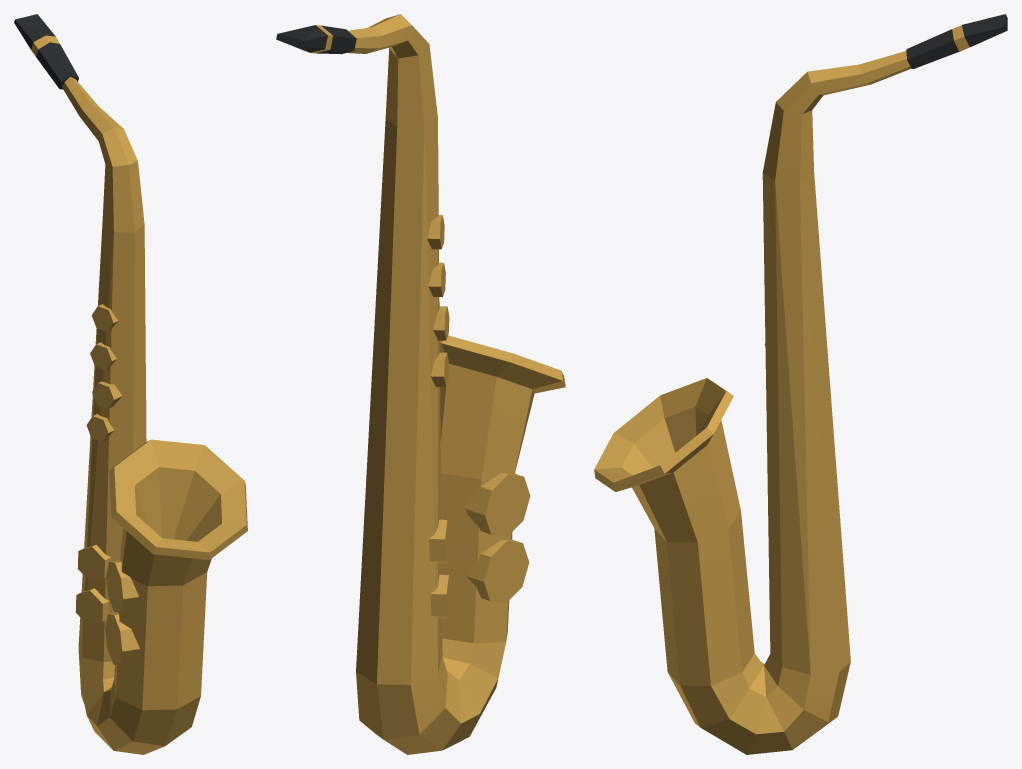
The model's file is SM_Prop_Music_Saxophone_01.obj.
3 renders of one model, left to right at view 1: azimuth 30°, elevation 25°; view 2: azimuth 150°, elevation 25°; view 3: azimuth 270°, elevation 25°, orthographic. The views are drawn at different scales.
Parts seen in each view (by area): view 1: SM_Prop_Music_Saxophone_01_0; view 2: SM_Prop_Music_Saxophone_01_0; view 3: SM_Prop_Music_Saxophone_01_0.
Part boxes in pixels (box(x1,y1,x2,y2)): SM_Prop_Music_Saxophone_01_0: box(14, 14, 247, 754); SM_Prop_Music_Saxophone_01_0: box(276, 14, 565, 754); SM_Prop_Music_Saxophone_01_0: box(594, 14, 1007, 754).
Bounding box in the file's own units: 0.2239 × 1.04 × 0.5328.
1 material, 1 textured.
